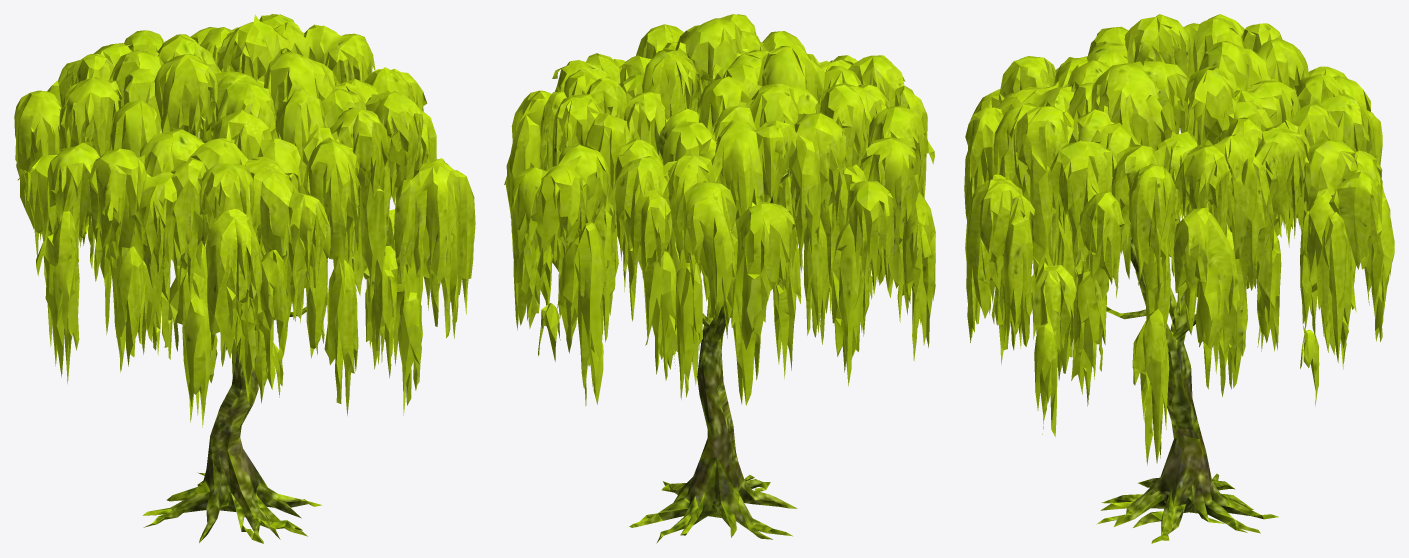
File: tree-willow-b.glb
3 views of the same model, side by side, from view 1: azimuth 30°, elevation 25°; view 2: azimuth 150°, elevation 25°; view 3: azimuth 270°, elevation 25° (orthographic). The views are drawn at different scales.
Parts seen in each view (by area): view 1: output_unwrapped; view 2: output_unwrapped; view 3: output_unwrapped.
Boxes of the visible parts, x1,y1,x2,y2 form: output_unwrapped: (14, 14, 475, 543); output_unwrapped: (504, 14, 935, 543); output_unwrapped: (964, 14, 1394, 543).
Bounding box in the file's own units: 13.32 × 14.87 × 12.39.
1 material, 1 textured.
